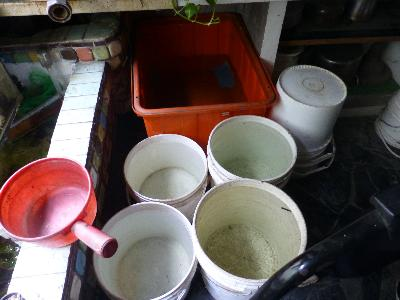bowl: (1, 156, 98, 248)
box: (127, 10, 281, 156)
bucket: (191, 178, 309, 300), (91, 202, 197, 300), (122, 133, 210, 223), (276, 62, 349, 170), (207, 114, 298, 189)
